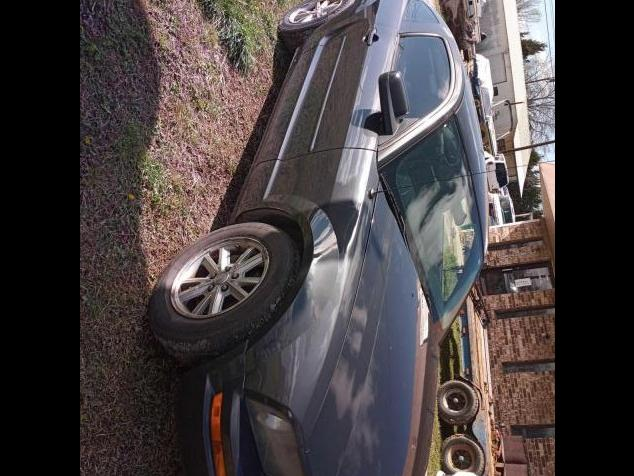Broken part: (237, 338, 251, 400)
Scratch: (242, 297, 300, 407)
